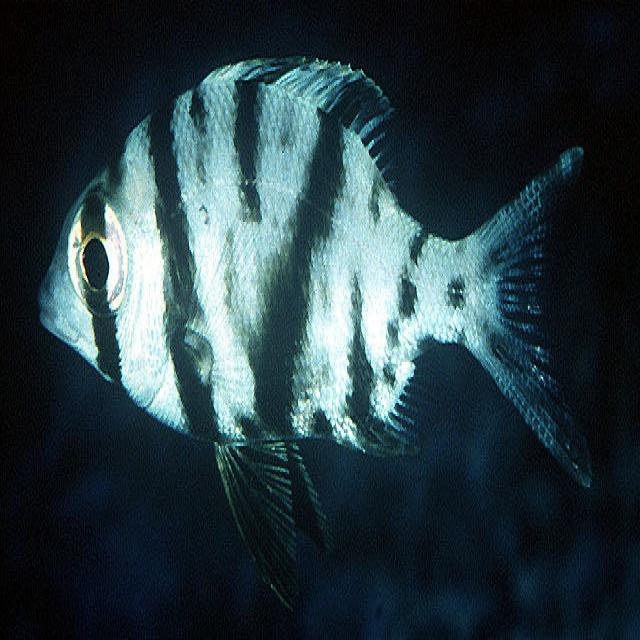ikan: (36, 50, 594, 612)
